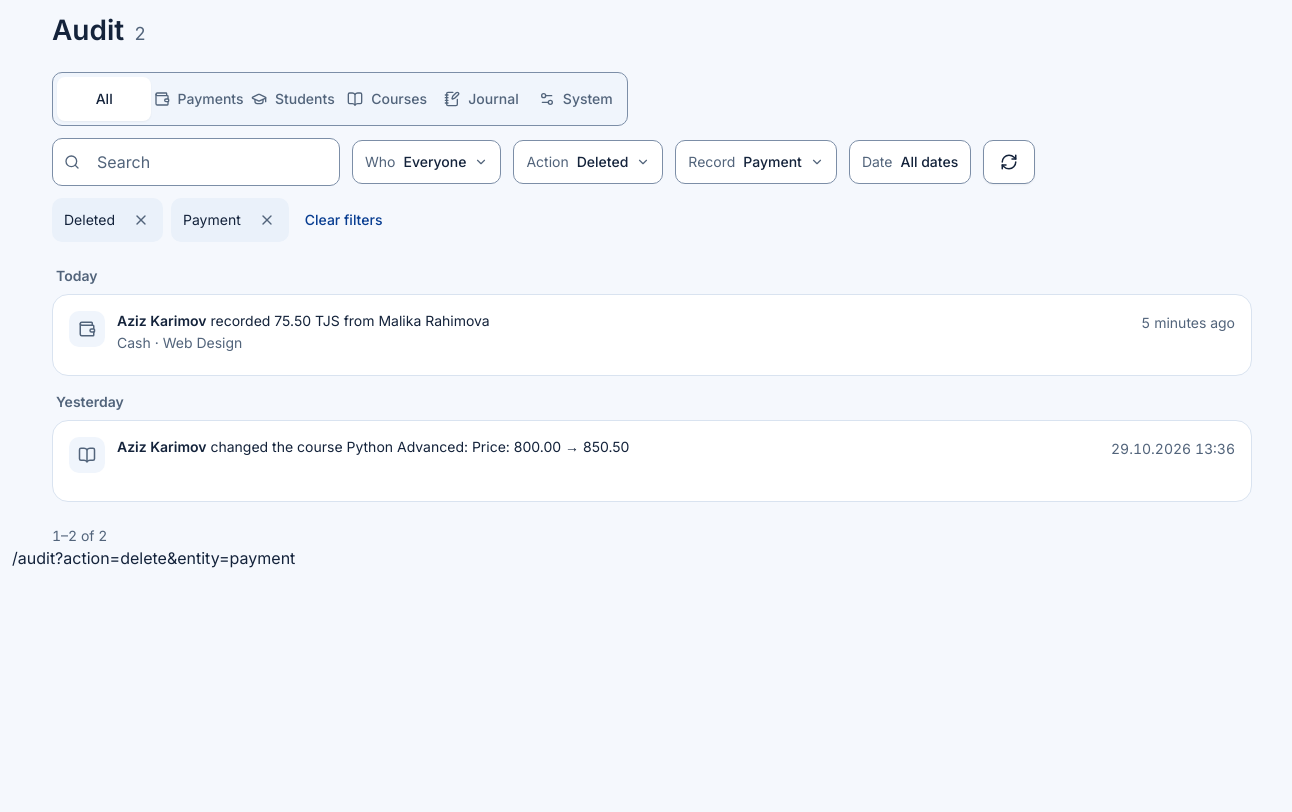
Test: Audit server filters › combines action and entity filters and clears everything
The width and height of the screenshot is (1292, 812).
expect the text "Aziz Karimov recorded 75.50 TJS from Malika Rahimova" is shown: met, box [117, 312, 490, 329]
Click the button "Clear filters". click: {"x": 344, "y": 220}
box: [297, 198, 390, 242]
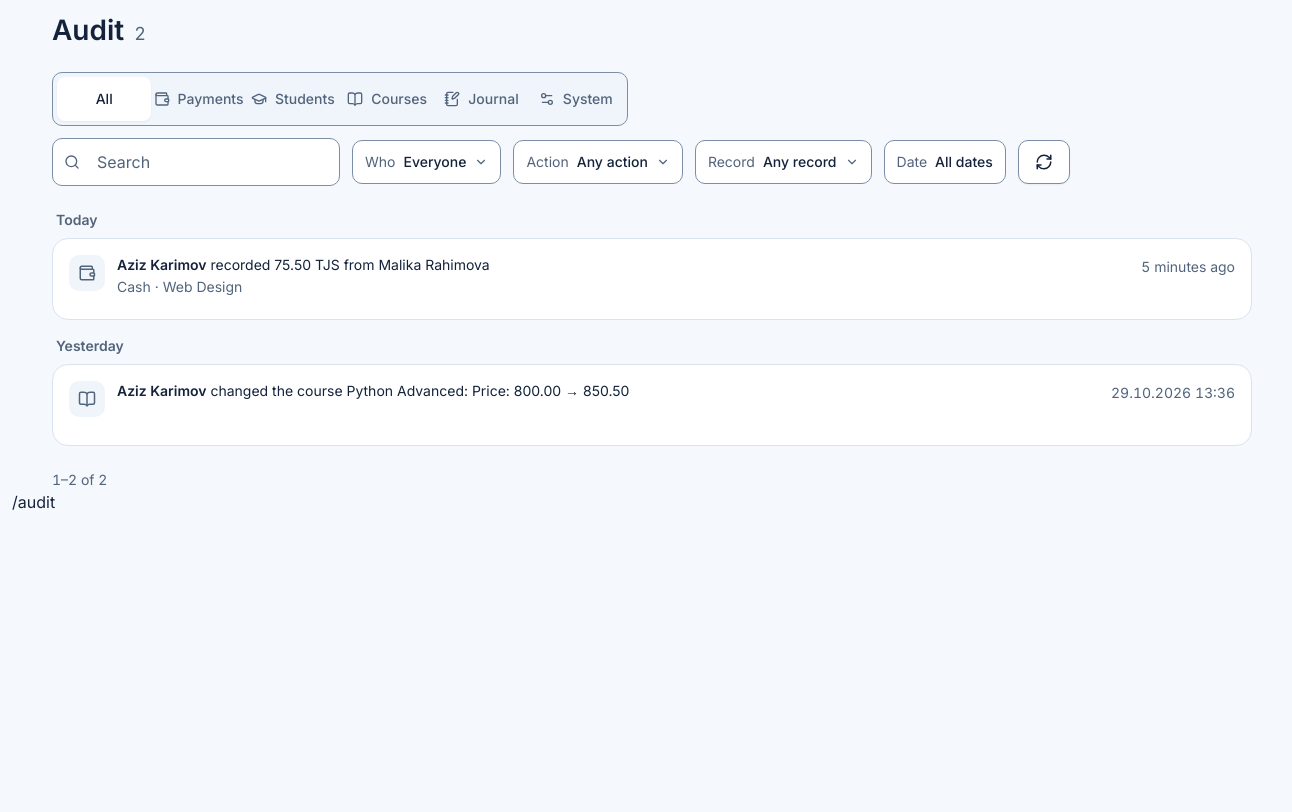
expect the text with test id "location" reads "/audit": met, box [12, 492, 55, 512]
